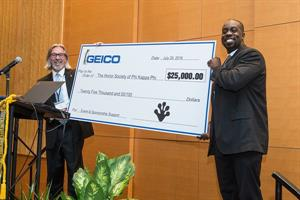Geico: (83, 51, 123, 66)
